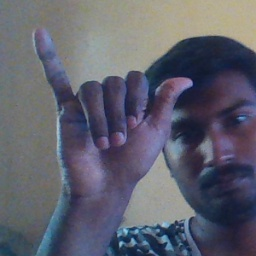J: (30, 27, 191, 195)
